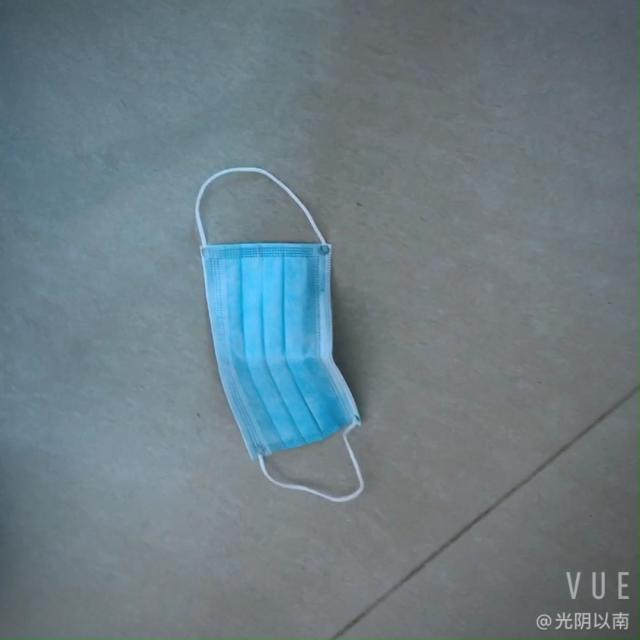face mask: (192, 176, 375, 508)
